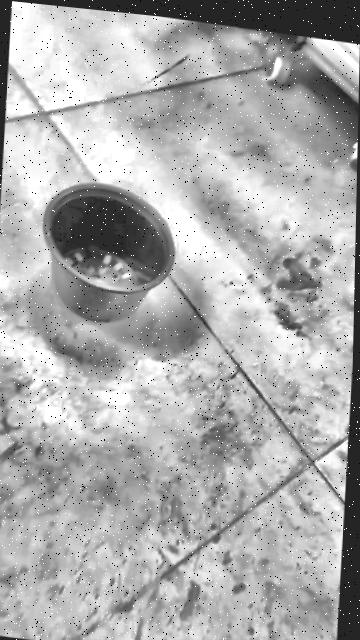pot: (38, 176, 178, 331)
